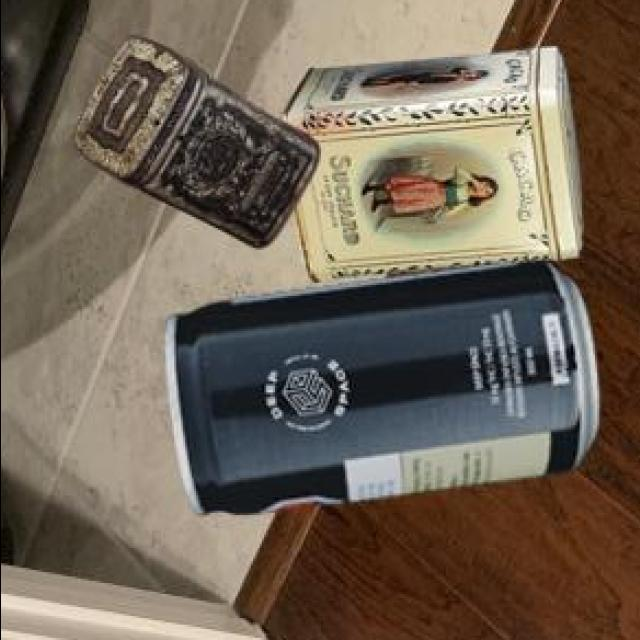logam: (161, 264, 595, 518), (277, 49, 578, 286), (69, 41, 317, 251)
